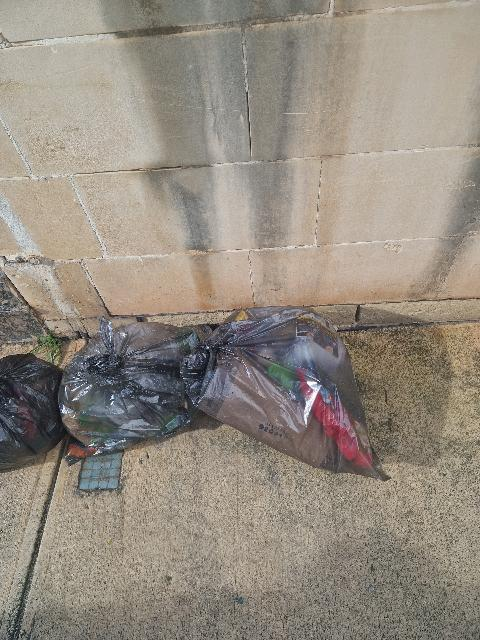Mixed -Black-: (0, 353, 65, 470)
Recyclable -Grey-: (180, 307, 389, 480), (59, 318, 212, 458)
